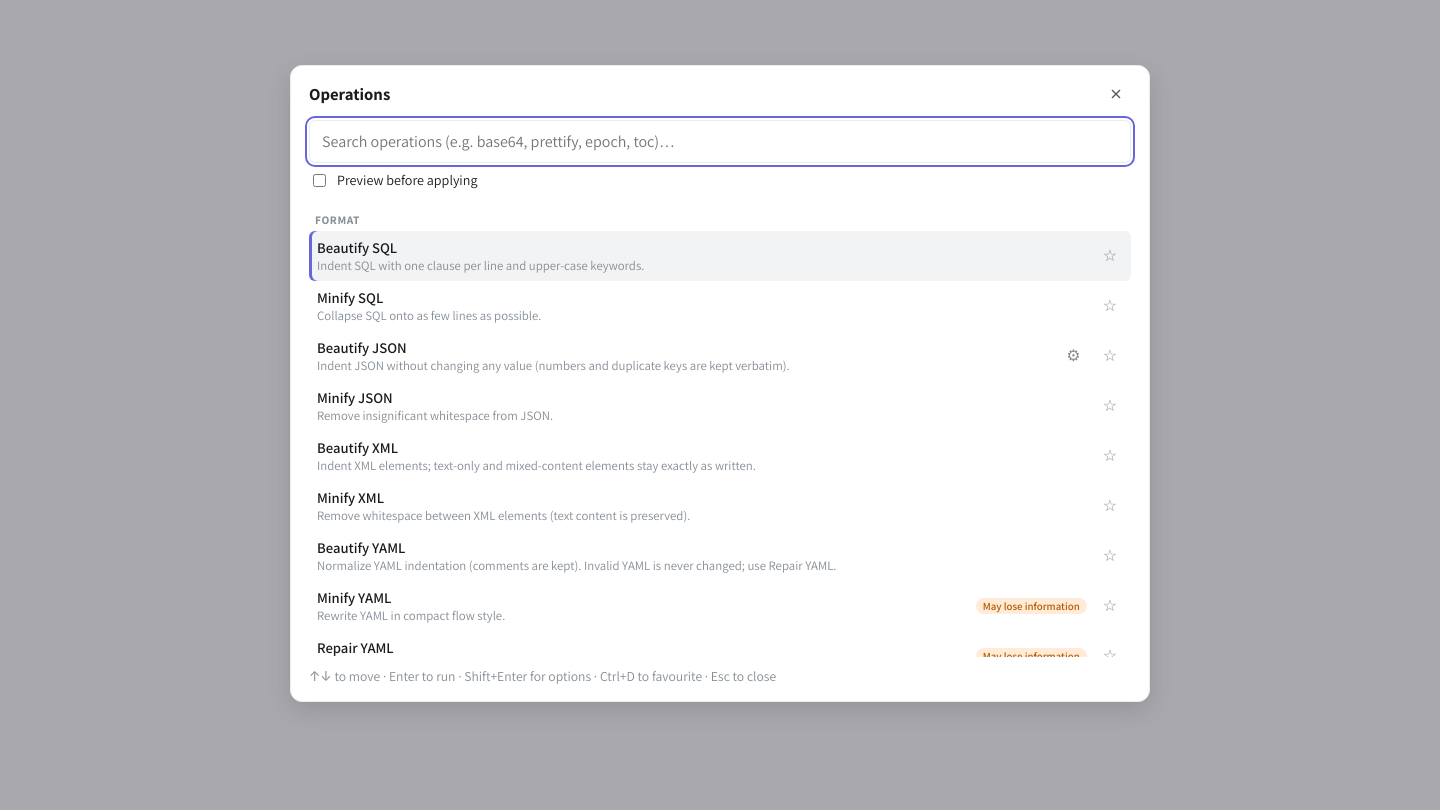
Test case: OperationPalette › searches by alias and runs the highlighted operation with Enter
Later steps or results of the test are not shown.
Type "b64" into the dropdown labelled "Search operations". click: (720, 141)
box: x1=309 y1=120 x2=1131 y2=163
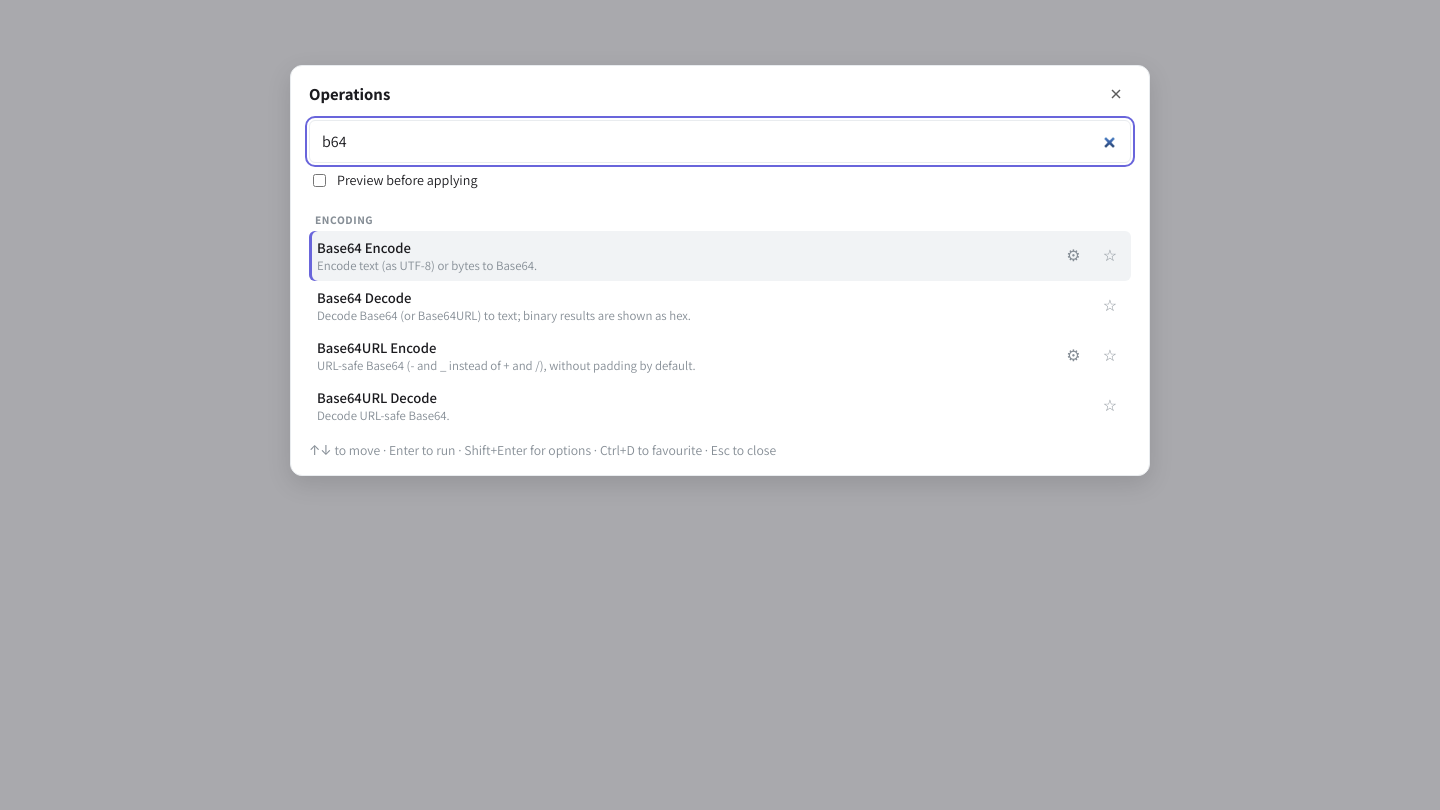
Expected: the option "Base64 Encode Encode text (as UTF-8) or bytes to Base64. ⚙ ☆" is shown, x1=309 y1=231 x2=1131 y2=281
